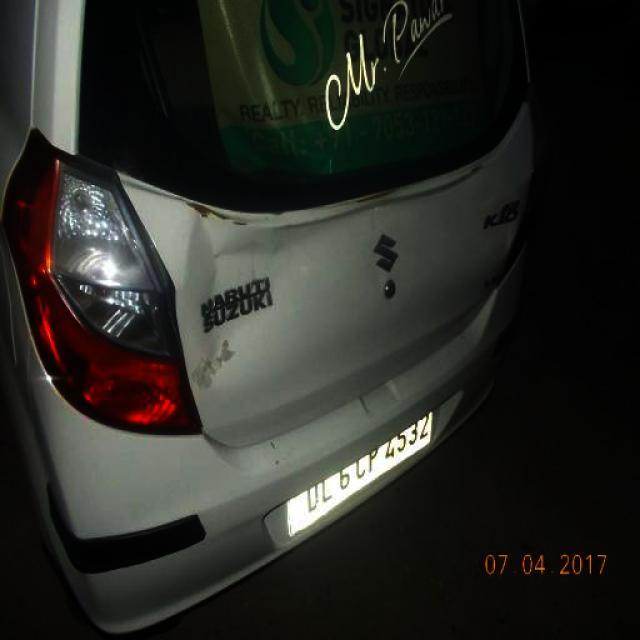car damage: (120, 163, 489, 232), (185, 219, 303, 388)
